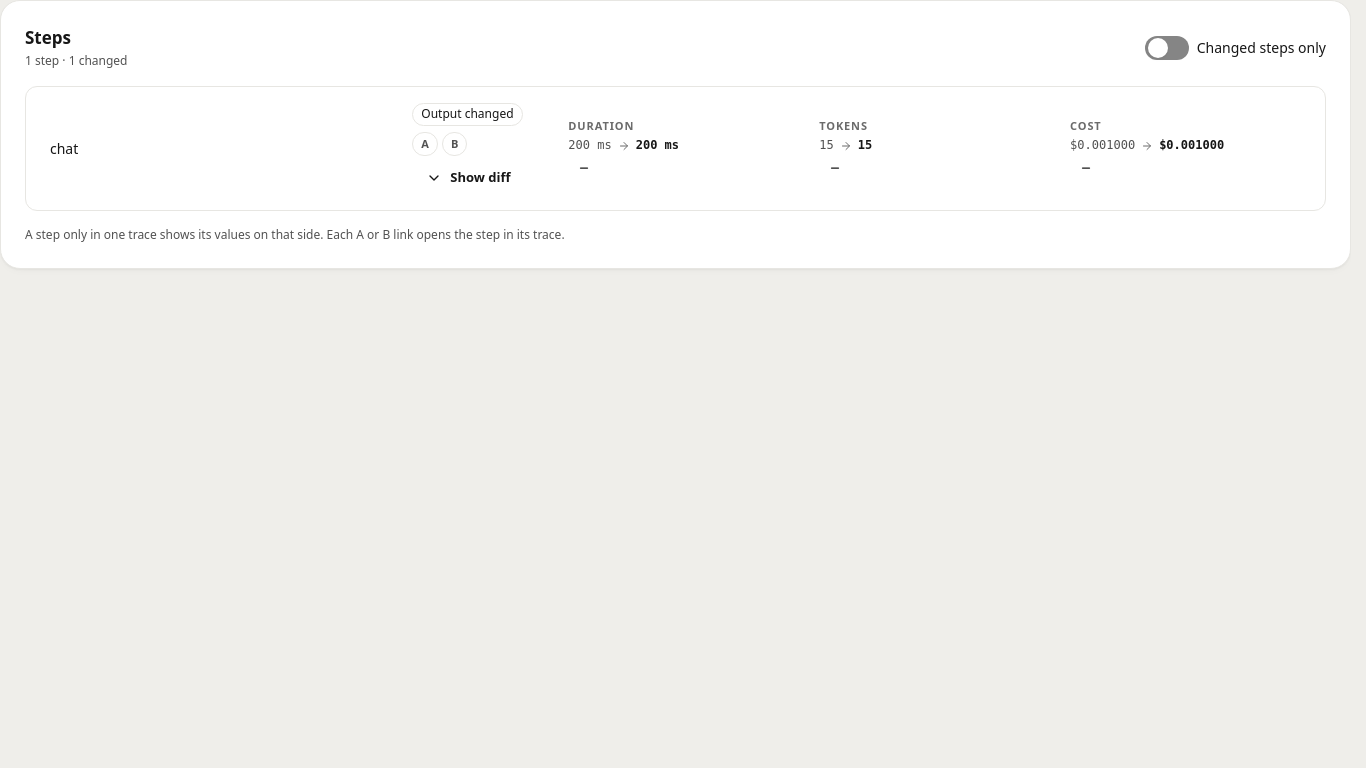
CompareSteps' Show diff of a big payload › diffs only the first 16 KB of a side over 64 KB and says so
Click the button with aria-label "Show diff of chat" at (468, 178), box [412,162,525,194]
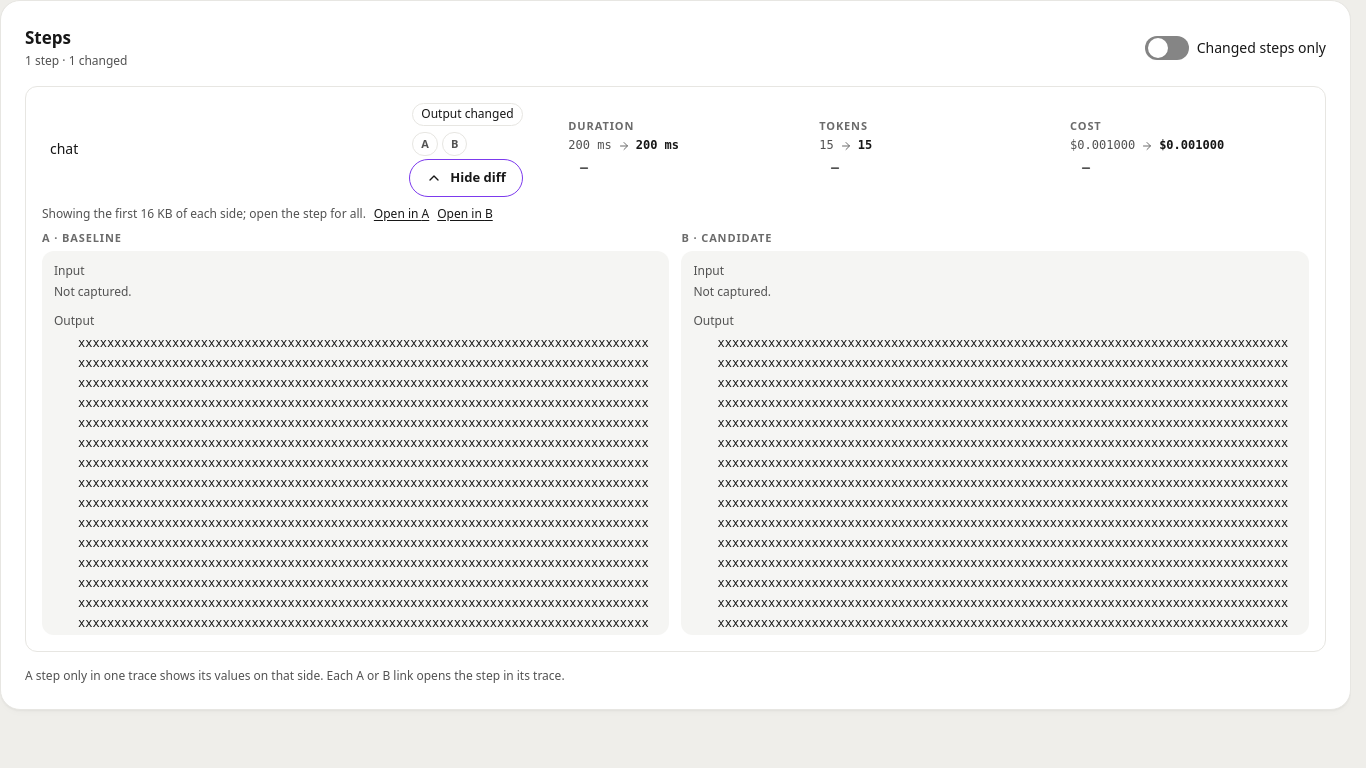
Expected: the text "Showing the first 16 KB of each side; open the step for all." is shown, [42,205,366,222]
